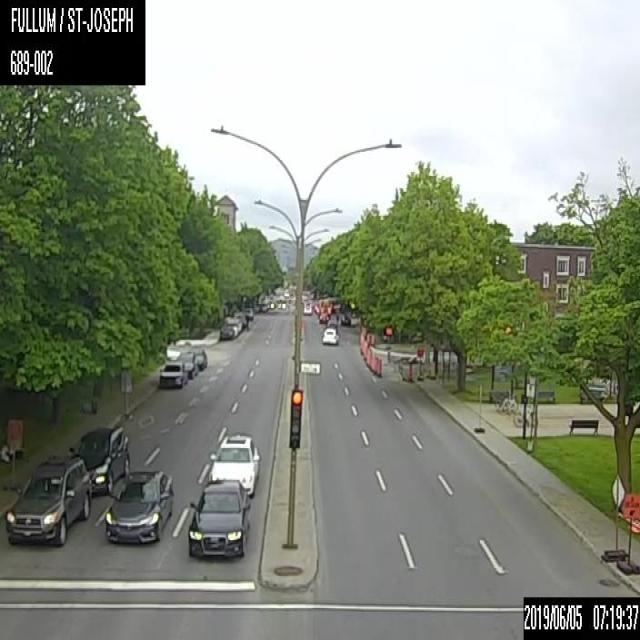construction: (600, 472, 628, 562), (617, 488, 639, 574), (416, 346, 424, 380), (407, 361, 414, 382), (372, 354, 378, 374), (377, 356, 382, 377), (386, 348, 391, 362), (385, 326, 391, 335)
vehicle: (4, 456, 90, 548), (103, 468, 172, 544), (188, 478, 250, 558), (67, 426, 130, 494), (207, 430, 259, 498), (157, 360, 188, 389), (176, 350, 198, 378), (192, 348, 206, 370), (321, 327, 339, 344), (218, 325, 233, 340), (302, 299, 312, 315)
